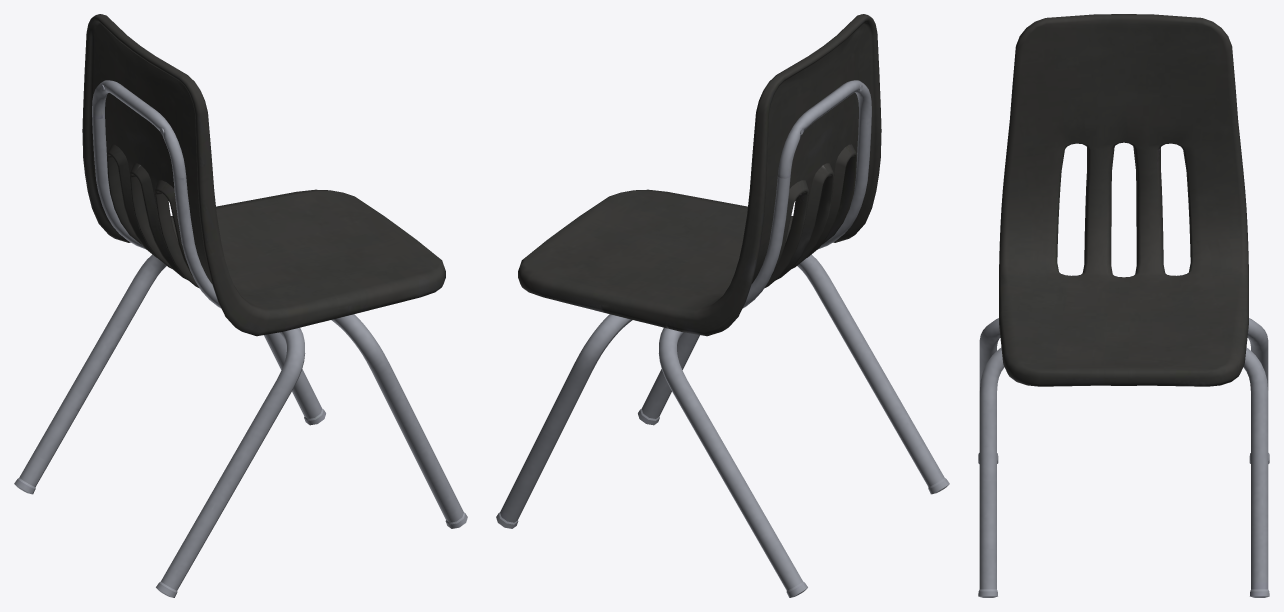
The model's file is prop_school_chair.glb.
3 renders of one model, left to right at view 1: azimuth 30°, elevation 25°; view 2: azimuth 150°, elevation 25°; view 3: azimuth 270°, elevation 25°, orthographic. The views are drawn at different scales.
Parts seen in each view (by area): view 1: schoolChair_T_schoolChair_0; view 2: schoolChair_T_schoolChair_0; view 3: schoolChair_T_schoolChair_0.
Part boxes in pixels (x1=…): schoolChair_T_schoolChair_0: x1=14, y1=14, x2=467, y2=597; schoolChair_T_schoolChair_0: x1=496, y1=14, x2=949, y2=597; schoolChair_T_schoolChair_0: x1=978, y1=14, x2=1269, y2=597.
Size of the model in its own units: 67.53 by 101 by 56.59.
Materials: 1 (1 with a texture image).
